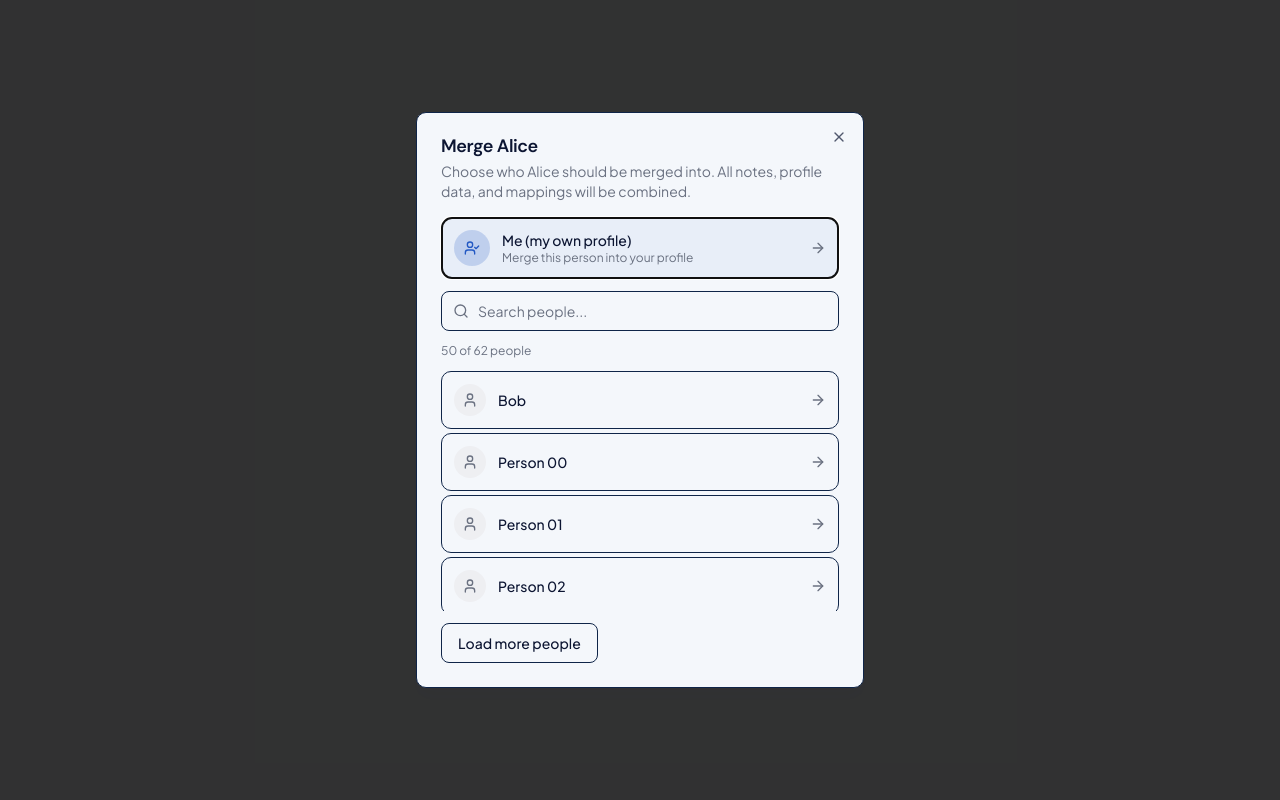
Test: merge candidates across all contact pages › loads targets beyond the first 50 and displays the eligible total
Expected: the text "50 of 62 people" is shown, x1=441 y1=343 x2=531 y2=358
Click the button "Load more people" at point(519, 643), box x1=441 y1=623 x2=598 y2=663
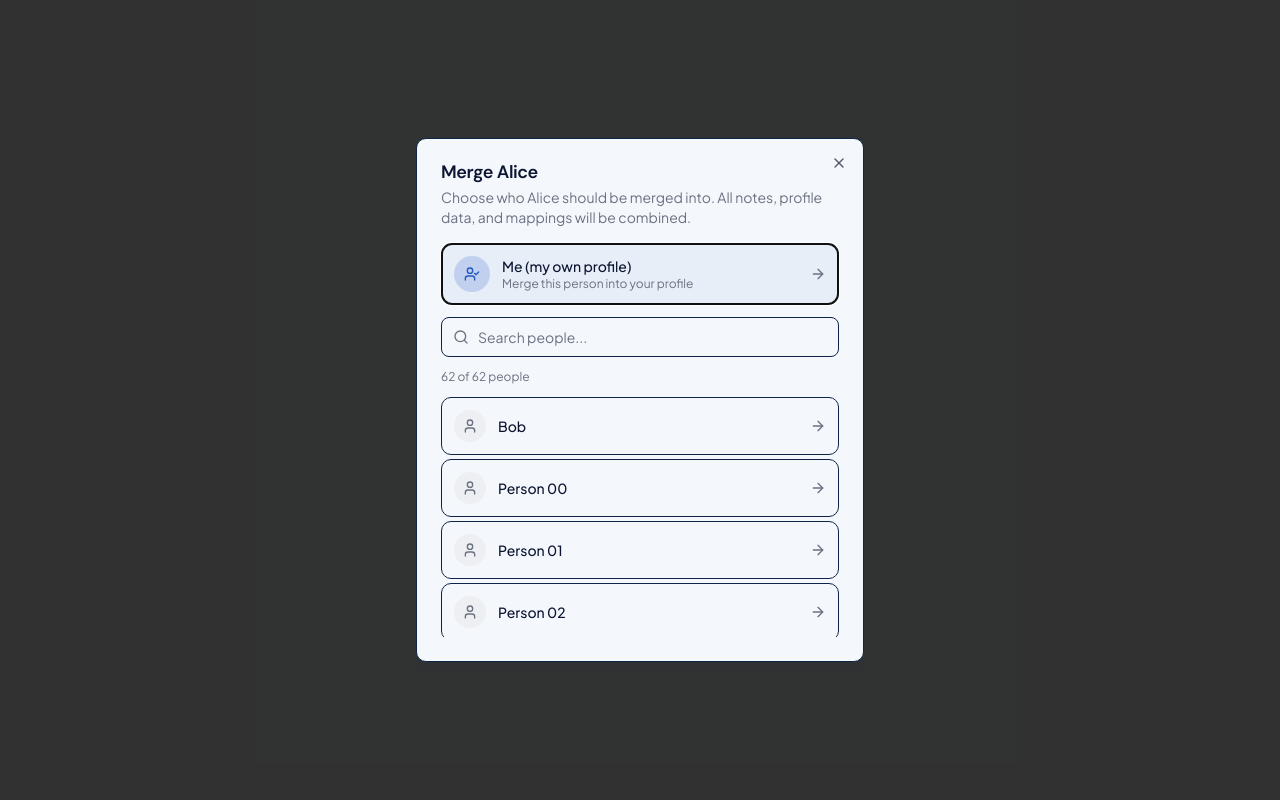
Now the text "62 of 62 people" is shown, box x1=441 y1=369 x2=530 y2=384
